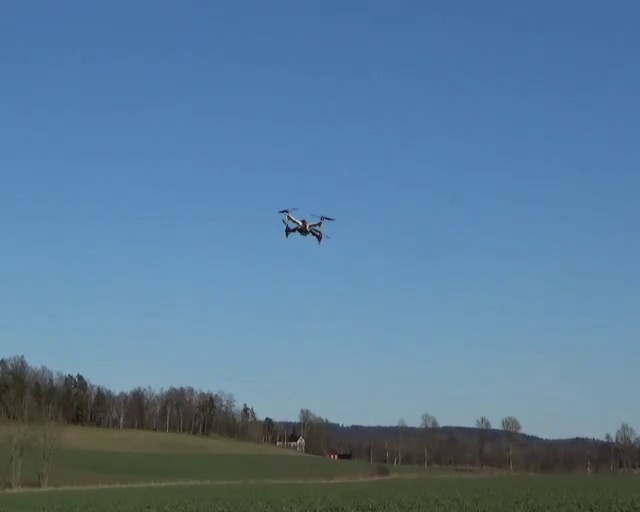DRONE: (277, 208, 335, 244)
